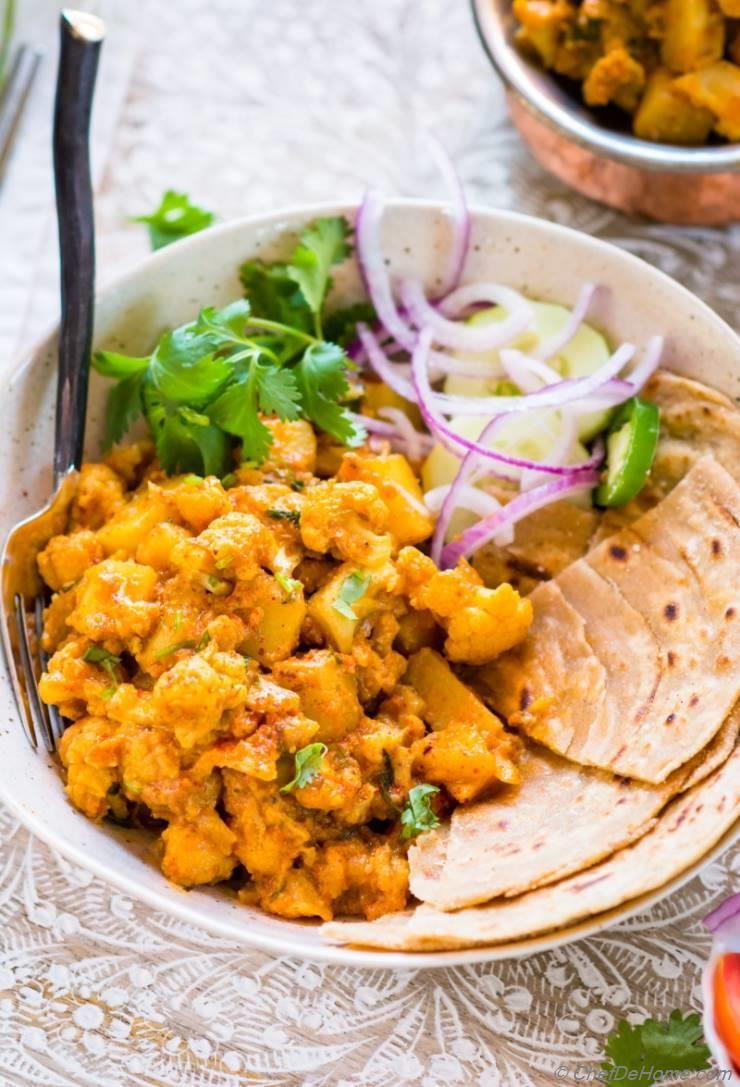aloo gobhi: (34, 418, 466, 894)
roti phulka: (498, 430, 740, 881)
salad: (358, 194, 608, 518), (104, 221, 348, 454)
